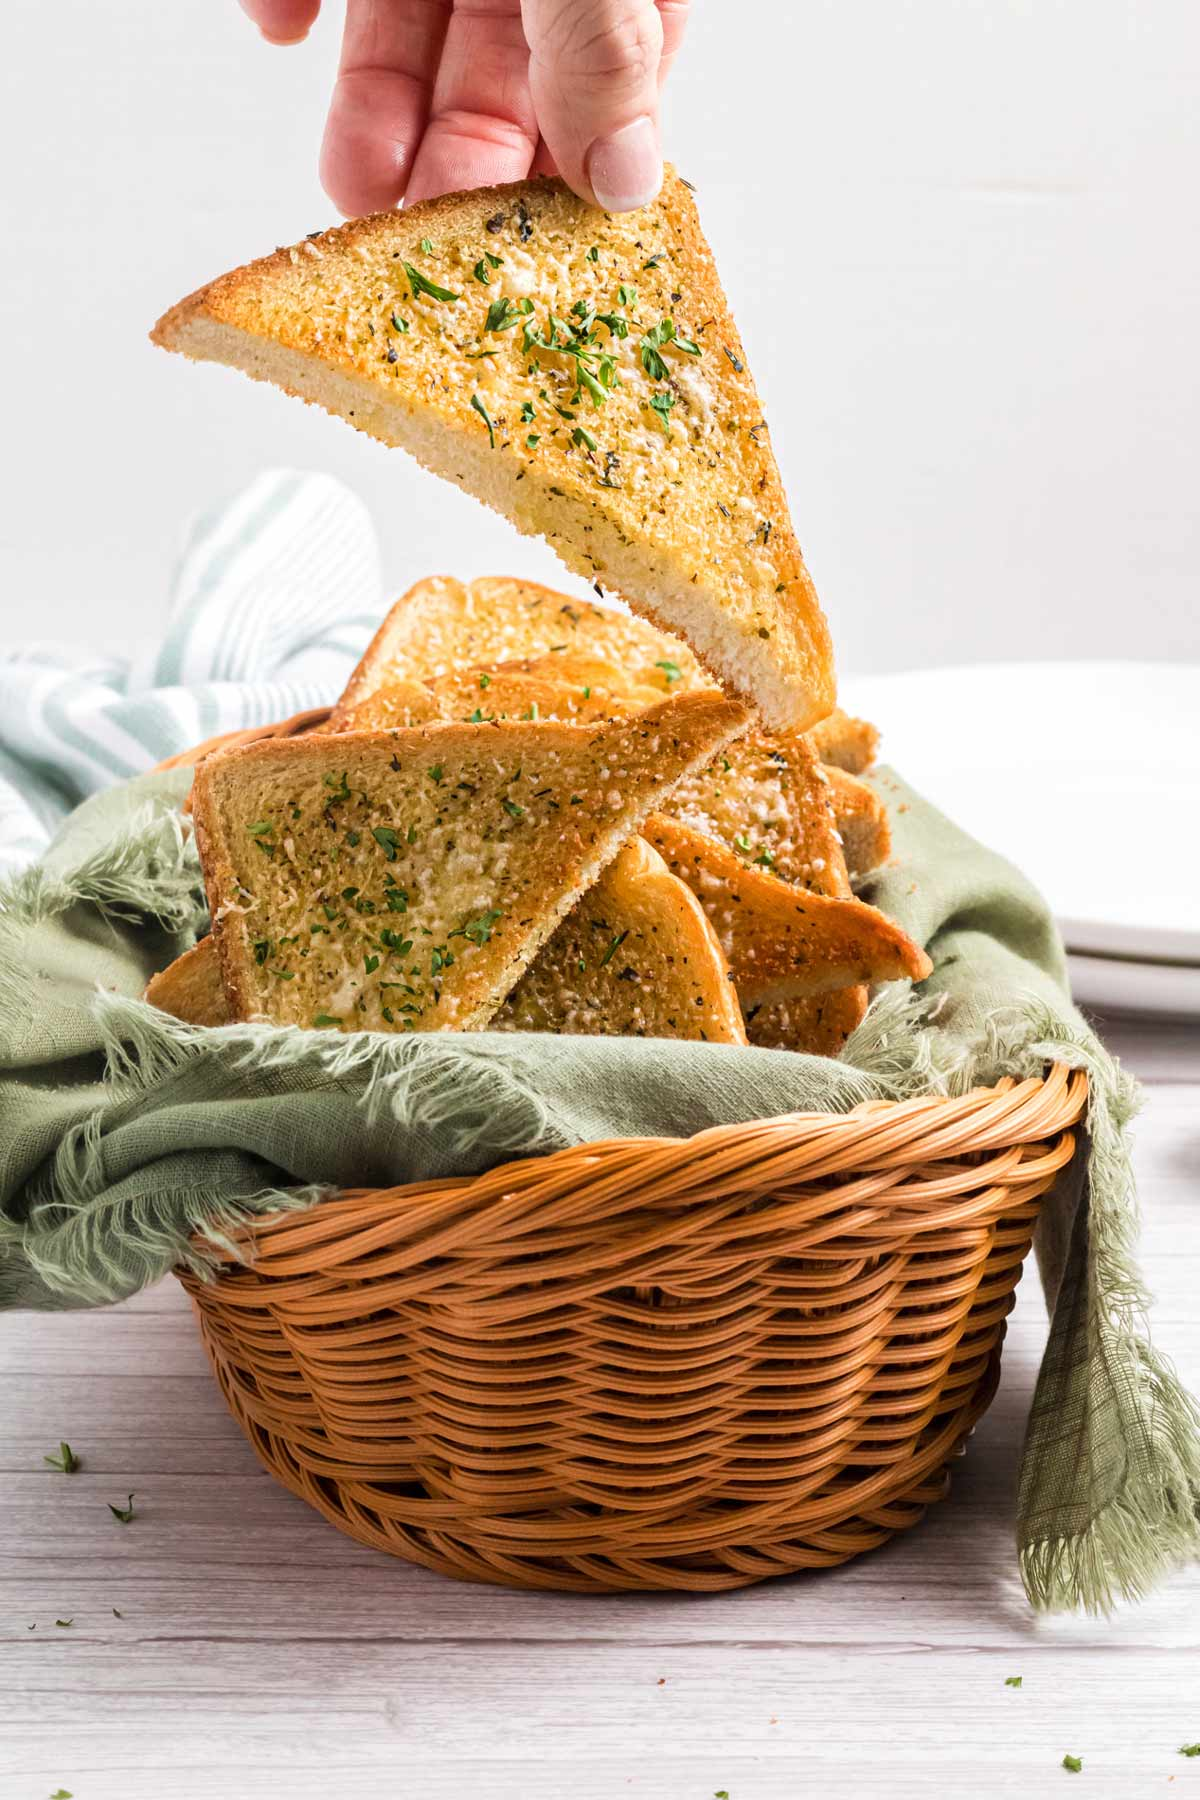Toast: (137, 183, 832, 707), (183, 678, 763, 1033)
